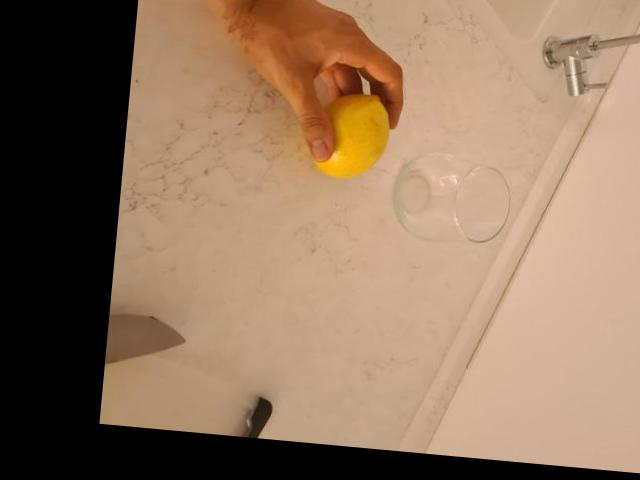lemon: (313, 90, 389, 179)
